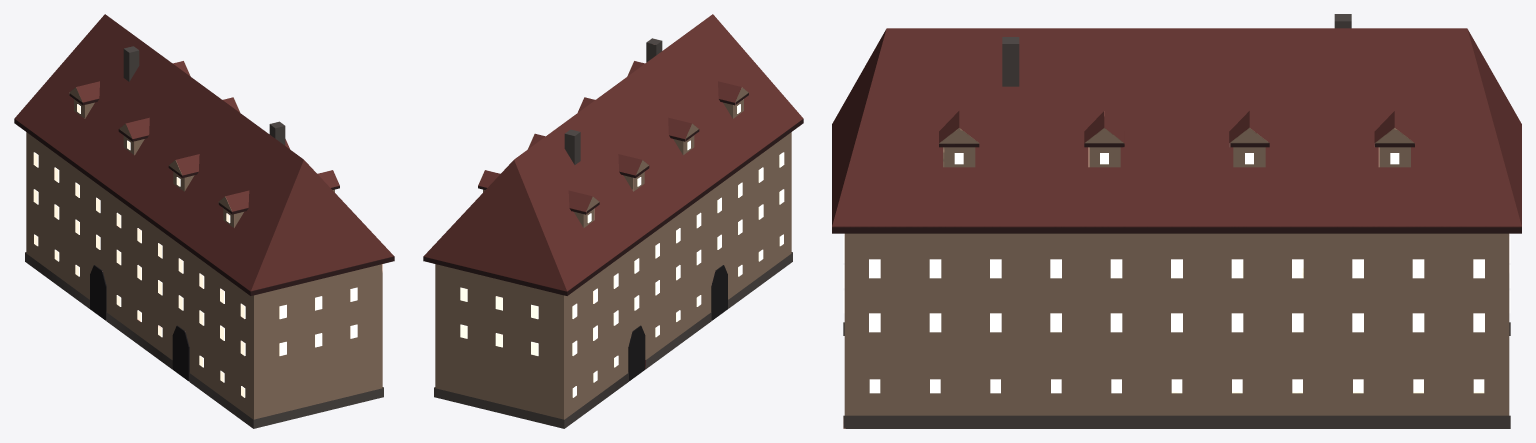
The model's file is GameProject3_WollWaaghausVariante2.3.fbx.
3 views of the same model, side by side, from view 1: azimuth 30°, elevation 25°; view 2: azimuth 150°, elevation 25°; view 3: azimuth 270°, elevation 25° (orthographic). The views are drawn at different scales.
Parts seen in each view (by area): view 1: SM_WollWaaghaus_Variante2.3; view 2: SM_WollWaaghaus_Variante2.3; view 3: SM_WollWaaghaus_Variante2.3.
Part boxes in pixels (x1,y1,x2,y2): SM_WollWaaghaus_Variante2.3: (14, 14, 394, 428); SM_WollWaaghaus_Variante2.3: (423, 14, 803, 428); SM_WollWaaghaus_Variante2.3: (832, 14, 1521, 428).
Size of the model in its own units: 1142 by 1839 by 3248.
1 material, 1 textured.
